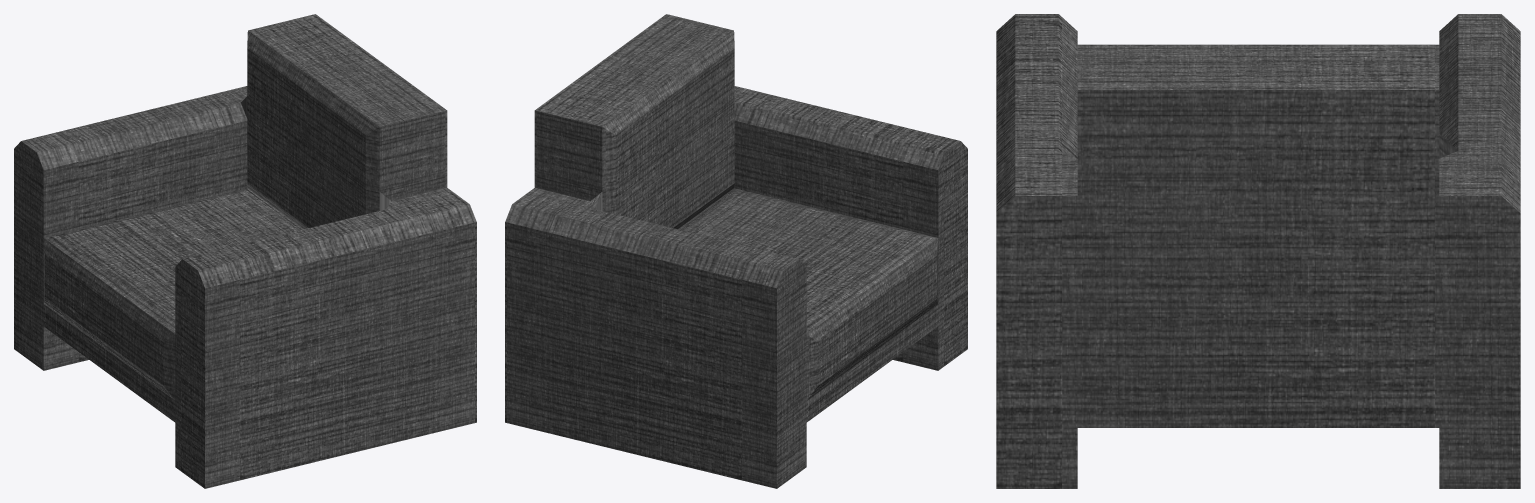
File: SOFA_01.fbx
3 views of the same model, side by side, from view 1: azimuth 30°, elevation 25°; view 2: azimuth 150°, elevation 25°; view 3: azimuth 270°, elevation 25° (orthographic). The views are drawn at different scales.
Visible parts, largest first — view 1: SOFA_01; view 2: SOFA_01; view 3: SOFA_01.
Boxes of the visible parts, <box> form: SOFA_01: <box>14,14,476,488</box>; SOFA_01: <box>505,14,967,488</box>; SOFA_01: <box>996,14,1520,488</box>.
Size of the model in its own units: 134 by 135 by 160.
